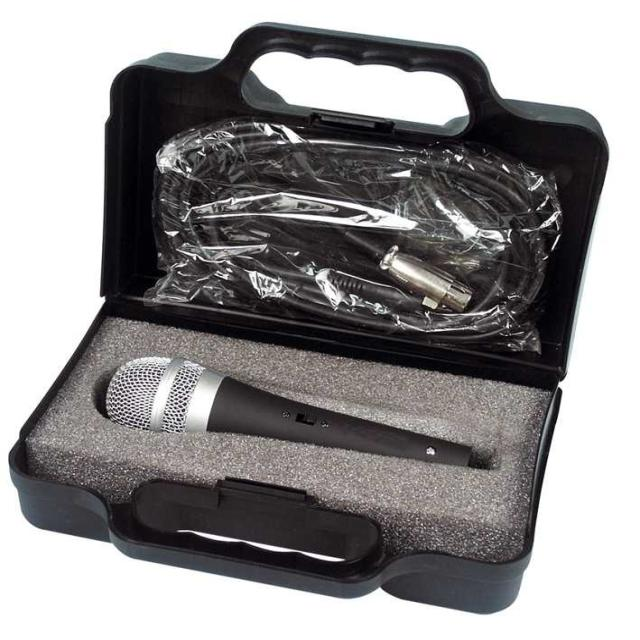microphone: (105, 347, 468, 480)
